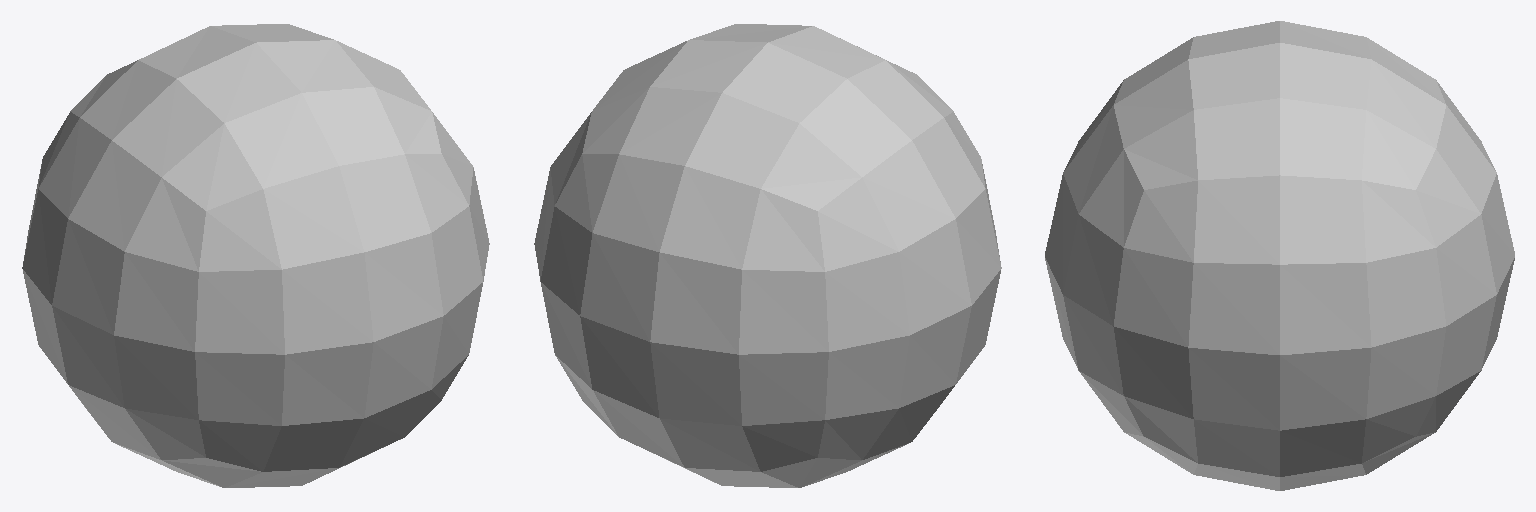
Rendered from bola.obj.
The picture shows the model from 3 angles: view 1: azimuth 30°, elevation 25°; view 2: azimuth 150°, elevation 25°; view 3: azimuth 270°, elevation 25°; orthographic projection.
Visible parts, largest first — view 1: Cube; view 2: Cube; view 3: Cube.
Boxes of the visible parts, box(x1,y1,x2,y2) form: Cube: box(22, 24, 489, 487); Cube: box(534, 24, 1001, 487); Cube: box(1045, 21, 1514, 490).
Bounding box in the file's own units: 1.6 × 1.6 × 1.6.